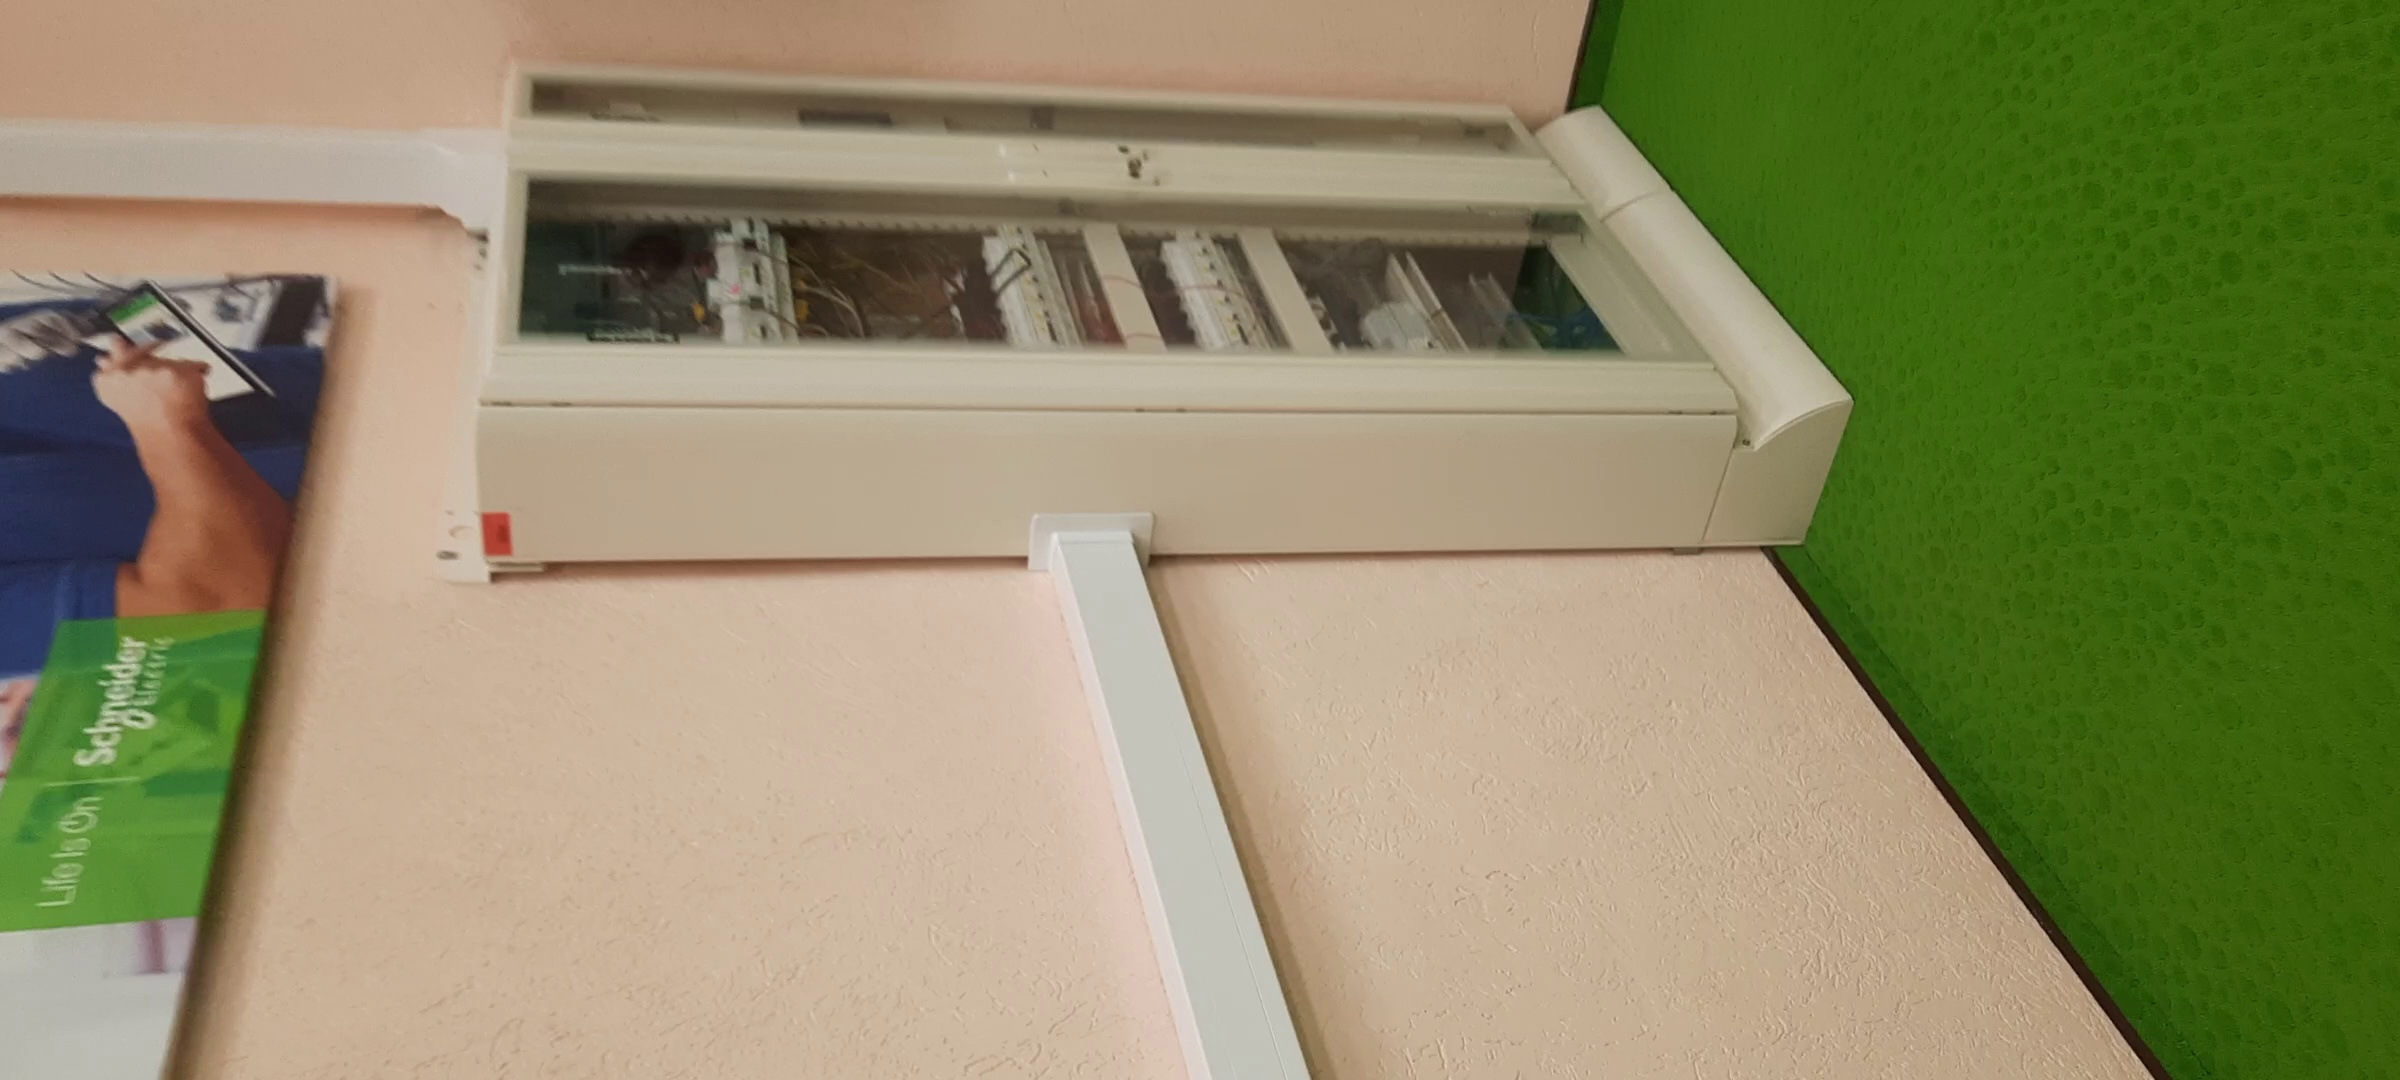stand1: (465, 70, 1746, 577)
